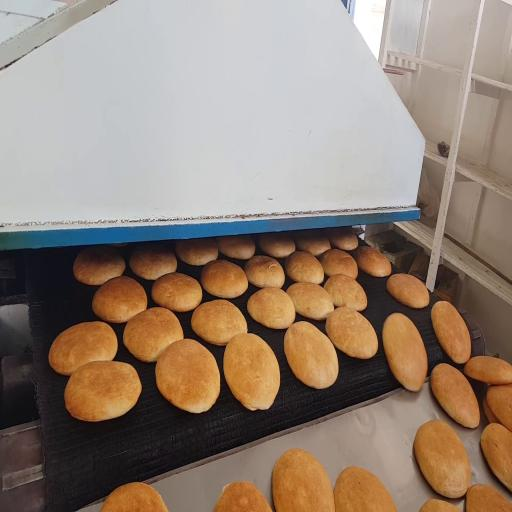bread: (64, 361, 141, 421), (156, 339, 219, 412), (414, 420, 471, 498), (224, 334, 280, 410), (272, 449, 334, 511), (284, 322, 338, 389), (49, 322, 117, 375), (383, 313, 427, 391), (123, 308, 183, 362), (430, 364, 479, 428), (334, 467, 397, 511), (326, 307, 378, 359), (92, 276, 147, 323), (431, 301, 471, 364), (191, 300, 247, 345), (481, 423, 511, 491), (73, 247, 125, 285), (247, 288, 295, 329), (152, 273, 202, 312), (101, 483, 167, 511), (201, 260, 248, 298), (287, 283, 334, 320), (130, 244, 177, 280), (214, 482, 271, 511), (324, 275, 367, 311), (387, 274, 429, 308), (464, 356, 511, 384), (244, 256, 285, 288), (285, 252, 324, 284), (466, 485, 511, 511), (175, 238, 218, 265), (319, 249, 357, 278), (487, 385, 511, 430), (355, 247, 391, 277), (294, 230, 330, 256), (216, 235, 255, 259), (259, 233, 295, 258), (327, 228, 358, 250), (482, 396, 500, 423), (420, 499, 459, 511)
